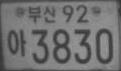0: (96, 27, 114, 65)
2: (76, 3, 91, 24)
3: (31, 28, 50, 64), (73, 28, 92, 64)
8: (53, 28, 71, 65)
9: (61, 3, 74, 24)
부산_H: (27, 4, 57, 24)
아: (7, 28, 27, 58)
